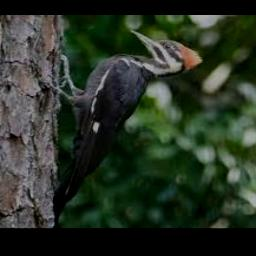Woodpecker: (51, 30, 204, 226)
